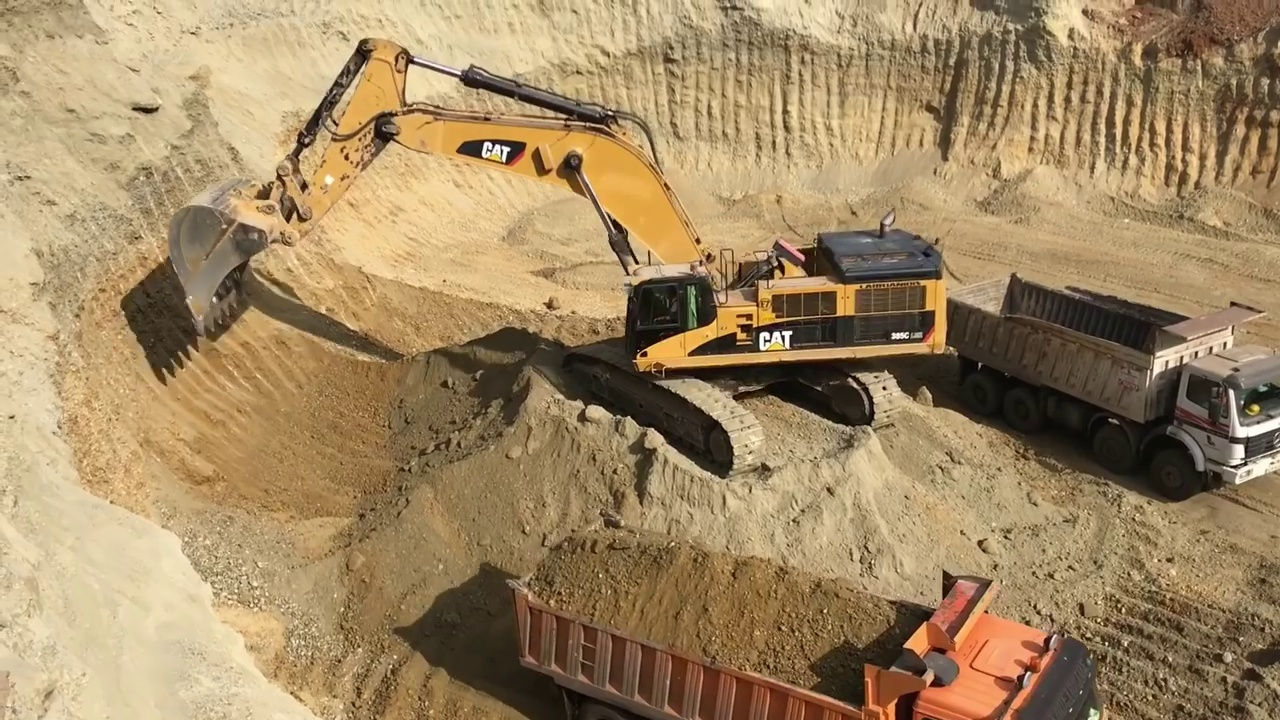excavator: (167, 36, 944, 480)
truck: (504, 511, 1097, 720), (945, 272, 1278, 493)
